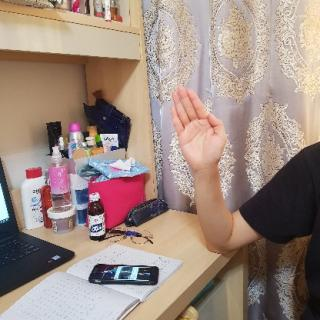SEEN: (166, 81, 232, 179)
